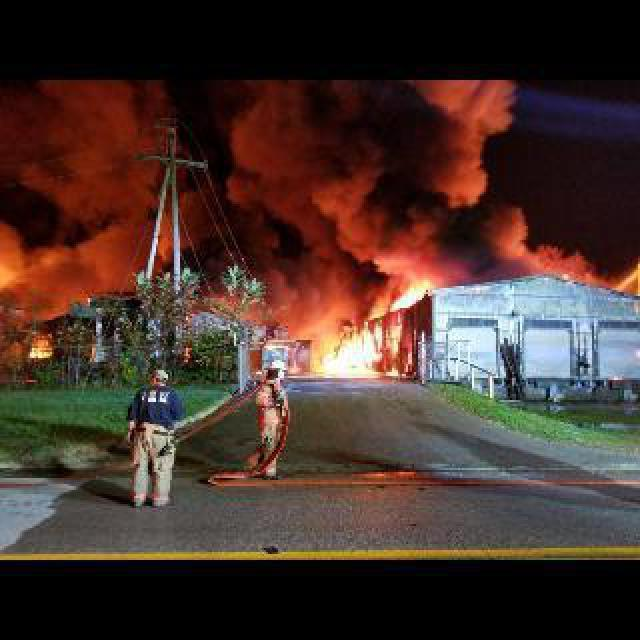Fire: (306, 298, 386, 378), (376, 282, 434, 314)
Smoke: (224, 80, 566, 280)
